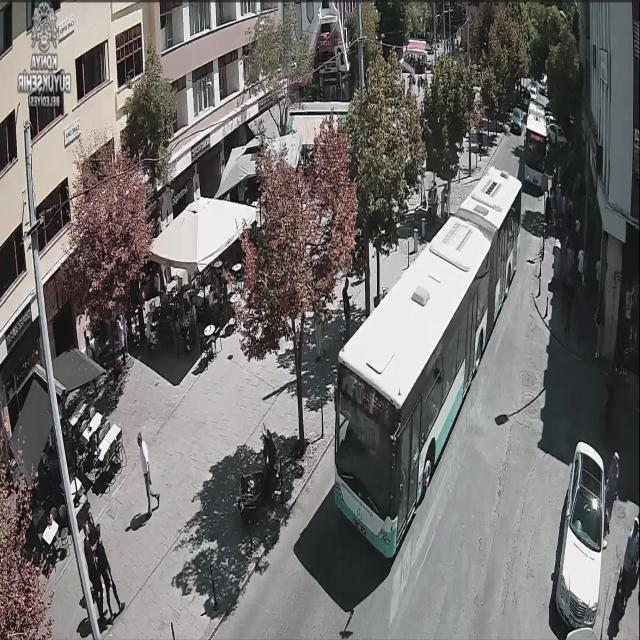Bus: (332, 166, 522, 560), (522, 100, 548, 190)
Car: (554, 442, 608, 632), (546, 123, 568, 146), (510, 108, 523, 135), (528, 86, 536, 102), (539, 79, 546, 95)
